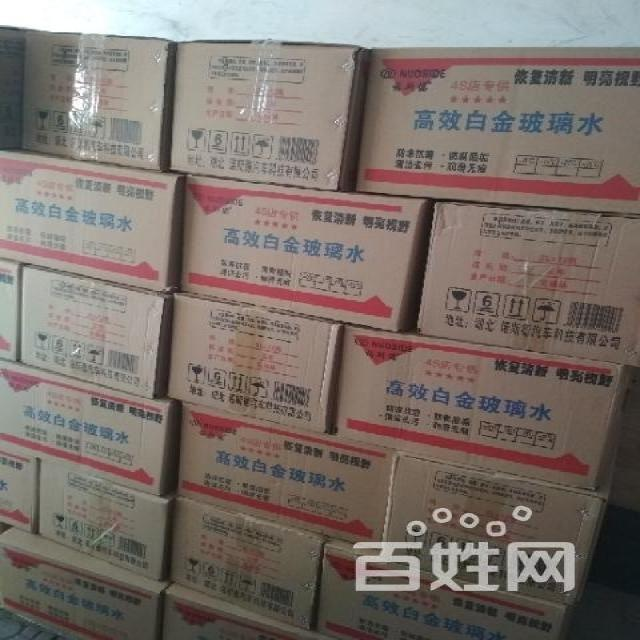box: (333, 323, 634, 489), (353, 48, 637, 216), (382, 412, 622, 605), (181, 171, 434, 329), (416, 198, 639, 366), (178, 399, 394, 551), (171, 39, 373, 191), (2, 145, 185, 291), (312, 537, 575, 638), (0, 353, 181, 495), (168, 289, 346, 433), (19, 31, 169, 172), (170, 498, 325, 632), (17, 264, 171, 398), (3, 526, 171, 639), (36, 463, 177, 580), (160, 580, 337, 638), (1, 446, 44, 535), (0, 26, 25, 147), (0, 256, 22, 362)
